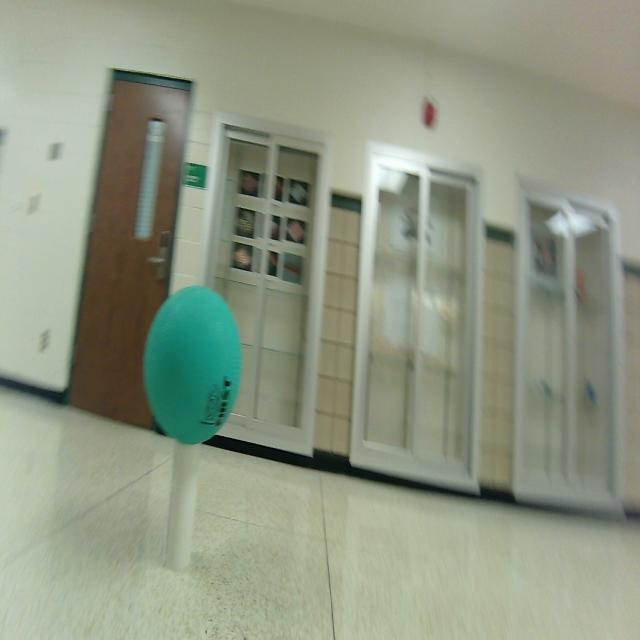algae: (143, 286, 242, 444)
coral: (166, 442, 199, 570)
